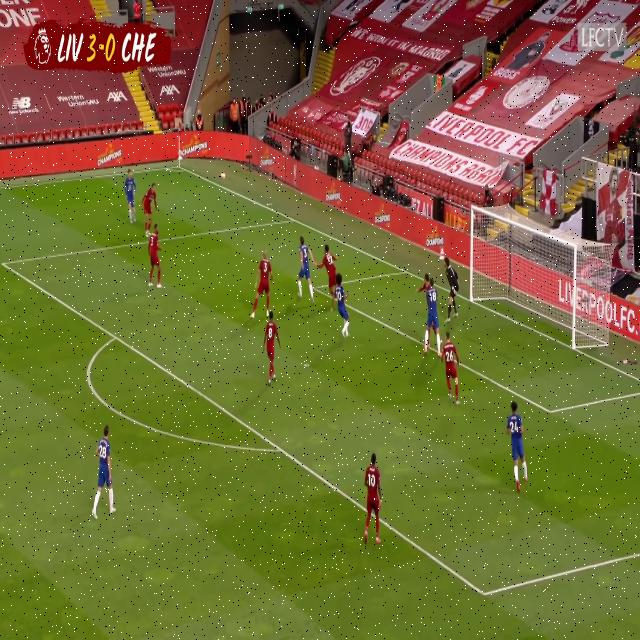Ball: (220, 166, 227, 179)
GoalKeeper: (445, 252, 459, 318)
TEAM 1: (248, 250, 272, 322), (441, 334, 461, 407), (148, 220, 166, 289), (318, 244, 339, 298), (142, 168, 156, 236), (415, 271, 429, 310)
TEAM 2: (90, 425, 117, 517), (418, 276, 444, 356), (506, 403, 529, 491), (362, 457, 384, 548), (264, 314, 282, 384), (332, 276, 351, 340), (296, 240, 314, 303), (123, 170, 137, 227)
